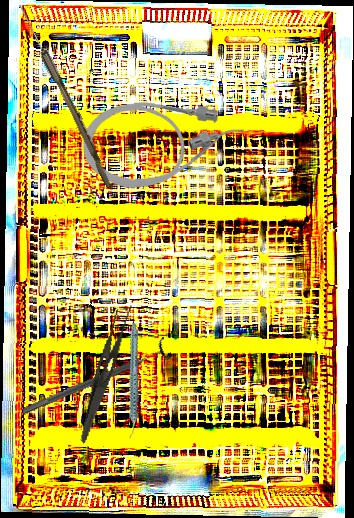Cannula: (82, 99, 245, 190)
Dressing Forceps: (78, 299, 135, 448)
Fixation Ring: (17, 335, 174, 423)
Handpiece: (104, 322, 160, 439)
Surgical Spoon: (14, 2, 116, 188)
